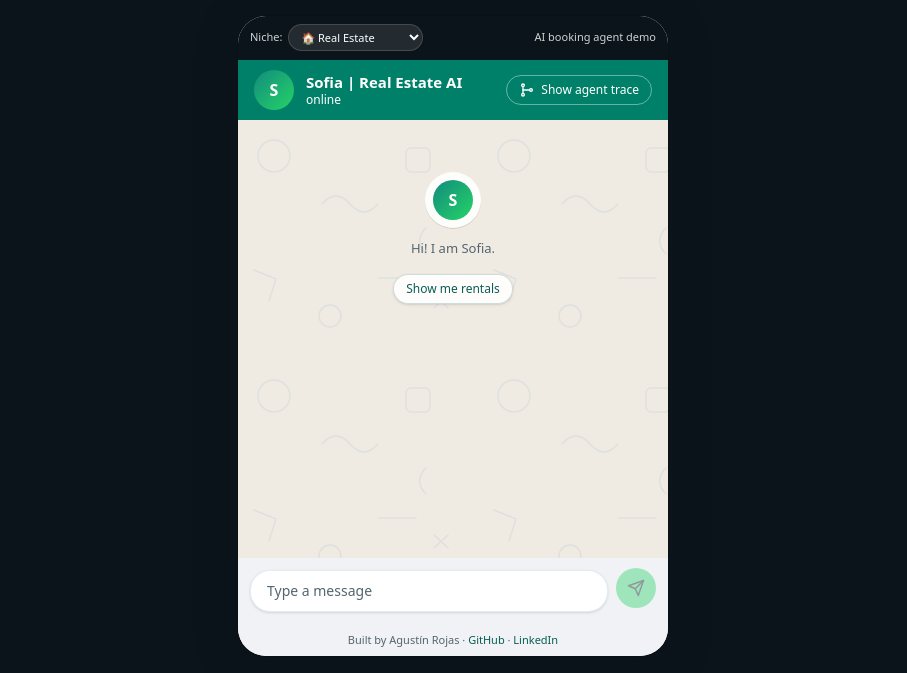
Test: chat flow › hydrates missing runs from /trace when the panel opens
Expected: the heading "Sofia | Real Estate AI" is shown, [306,72,462,92]
Expected: the text "Hi! I am Sofia." is shown, [411,240,495,258]
Click the button "Show agent trace" at (579, 90), box [506,75,652,105]
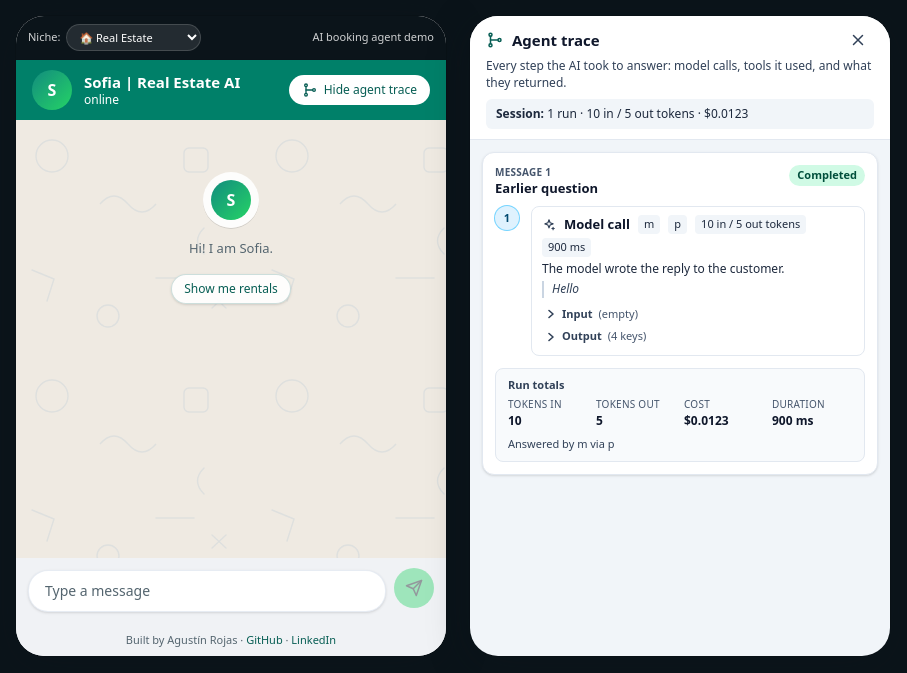
Expected: the heading "Earlier question" is shown, [495,179,598,197]
Expected: the element with test id "run-totals" shows "$0.0123", [684,412,729,429]
